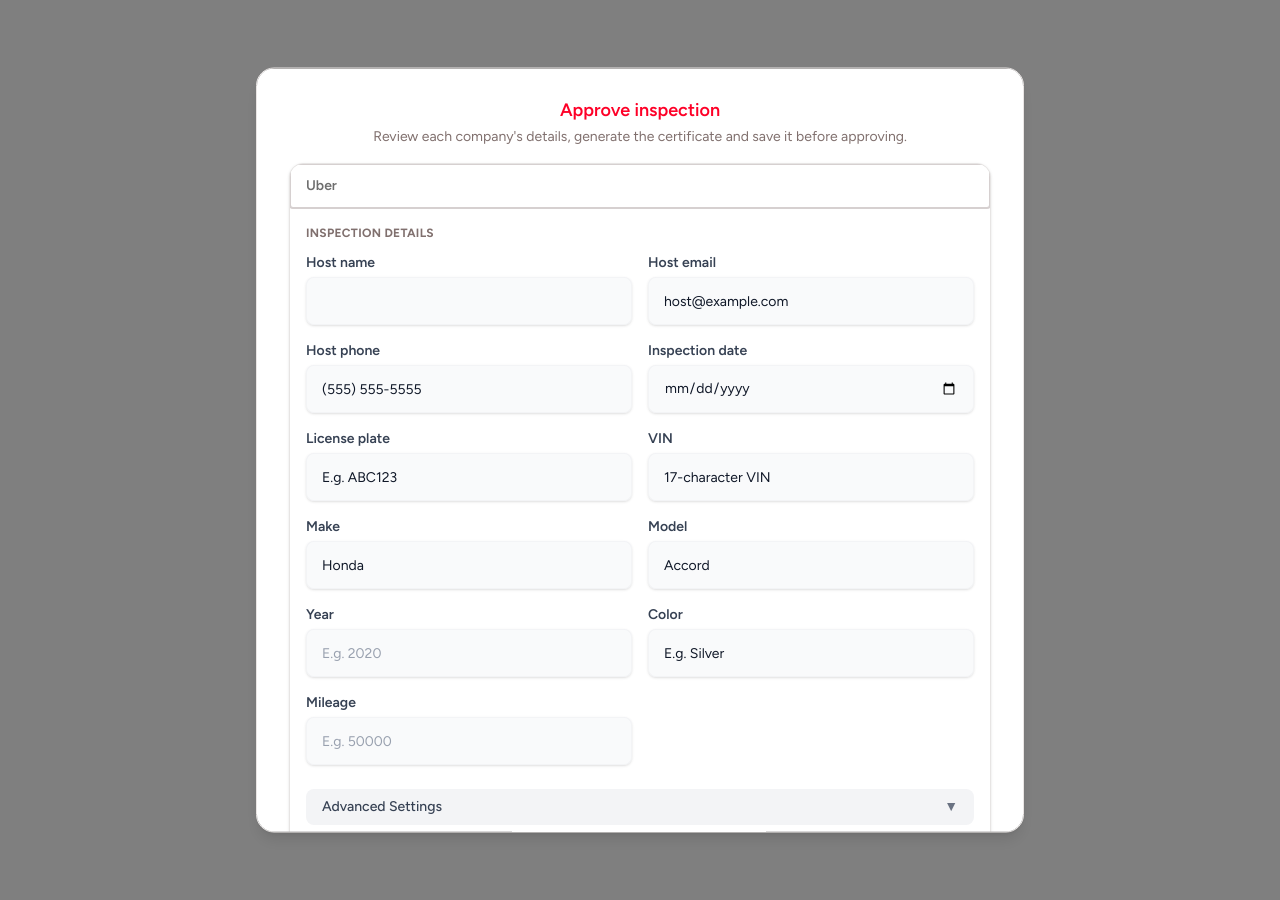
Test case: ApprovalDialog › renders pass/fail fields as radios and yes/no as radios
The width and height of the screenshot is (1280, 900).
Click the button "Advanced Settings ▼". click: {"x": 382, "y": 806}
box: [306,788,974,824]
(page scrolled)
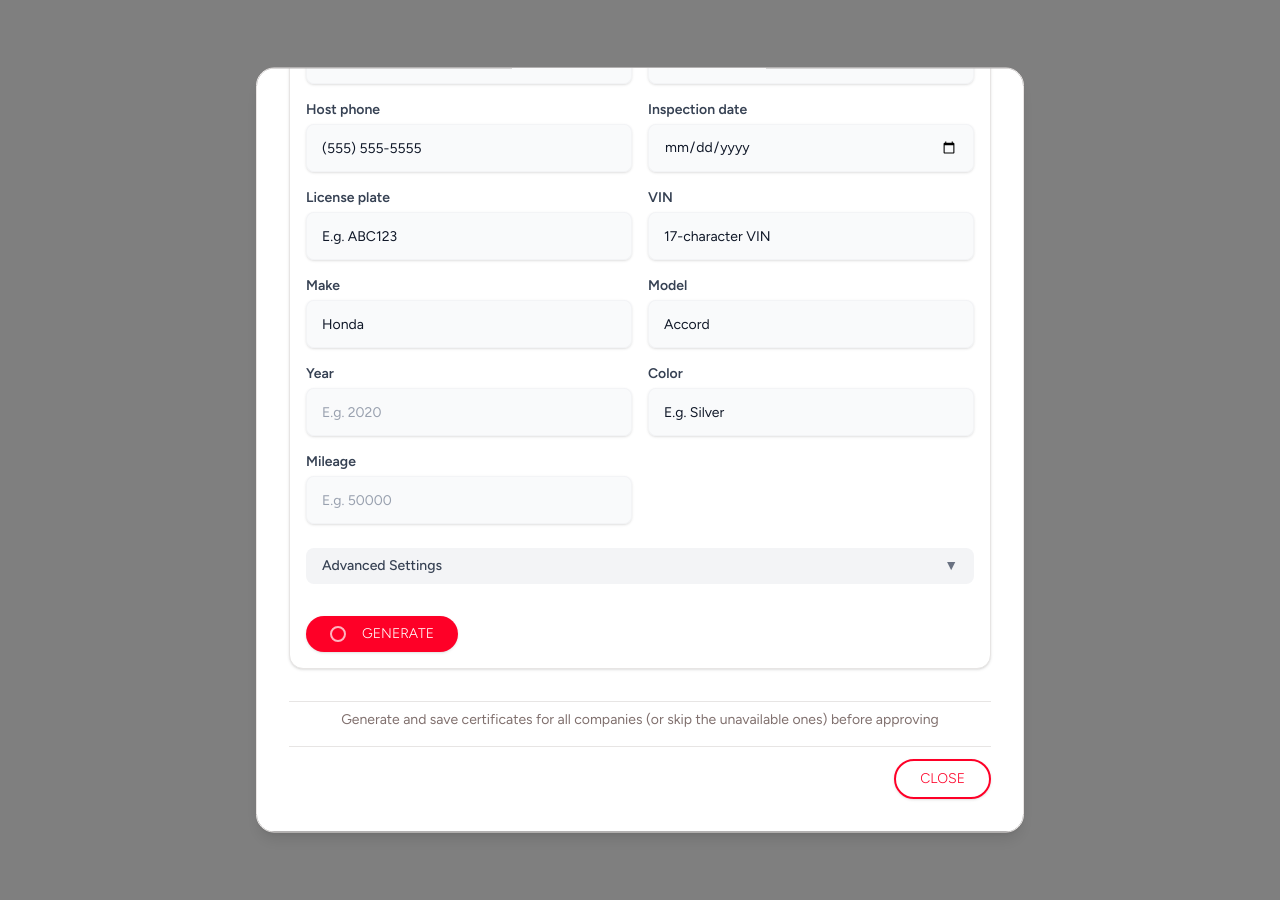
Click the button "Advanced Settings ▼". click: {"x": 382, "y": 566}
box: [306,548,974,584]
(page scrolled)
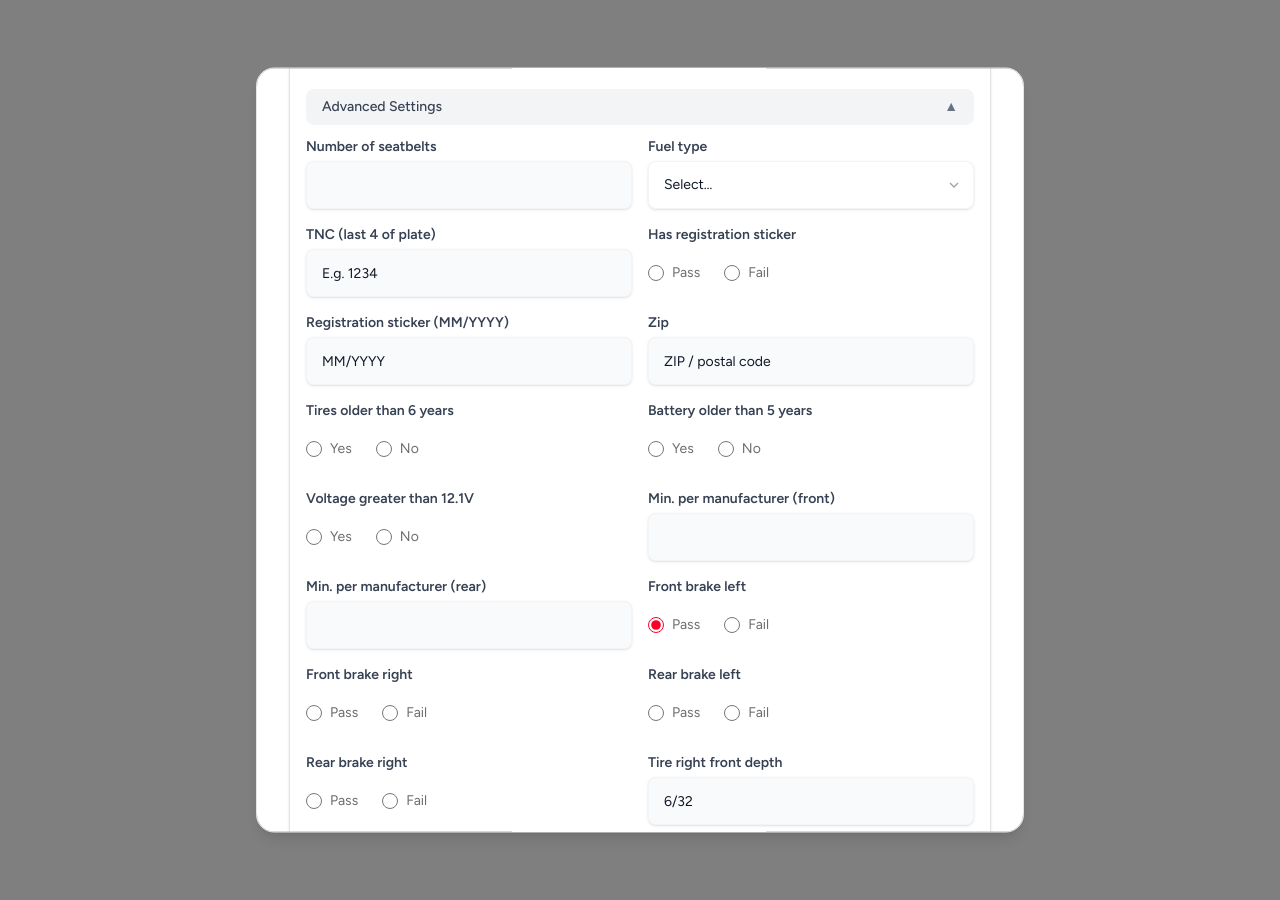
Expected: the radio button labelled "Pass" below "Has registration sticker" is shown, [648,266,664,282]
Expected: the radio button labelled "Fail" below "Has registration sticker" is shown, [724,266,740,282]
Expected: the radio button labelled "Yes" below "Tires older than 6 years" is shown, [306,442,322,458]
